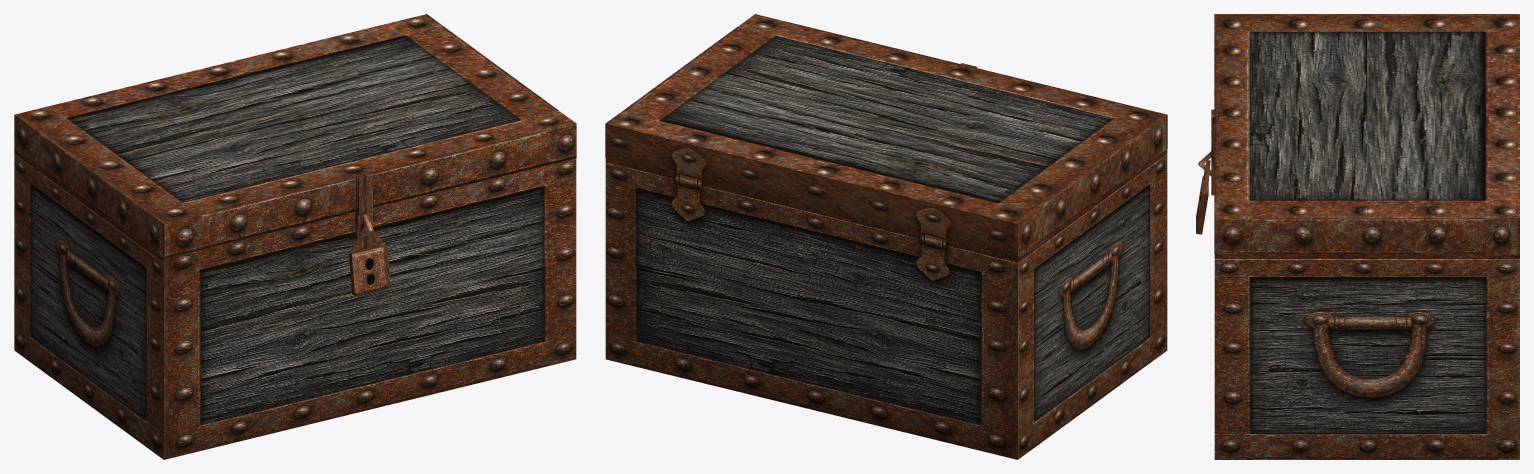
File: mm9_deco_chest1.glb
The picture shows the model from 3 angles, left to right: view 1: azimuth 30°, elevation 25°; view 2: azimuth 150°, elevation 25°; view 3: azimuth 270°, elevation 25°; orthographic projection. The views are drawn at different scales.
Parts seen in each view (by area): view 1: Chest1; view 2: Chest1; view 3: Chest1.
Boxes of the visible parts, x1,y1,x2,y2 form: Chest1: (14, 14, 576, 459); Chest1: (605, 14, 1167, 459); Chest1: (1196, 14, 1519, 459).
Bounding box in the file's own units: 1 × 0.5473 × 0.6674.
Materials: 2 (2 with a texture image).
